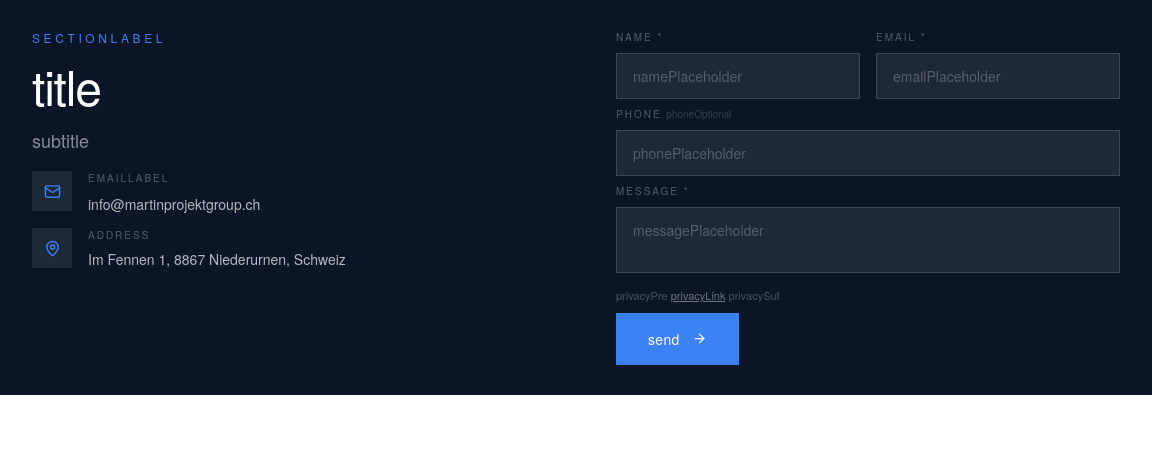
Test case: ContactSection › shows all field errors when submitting empty form
Click the button "send" at (677, 339), box [616, 313, 739, 365]
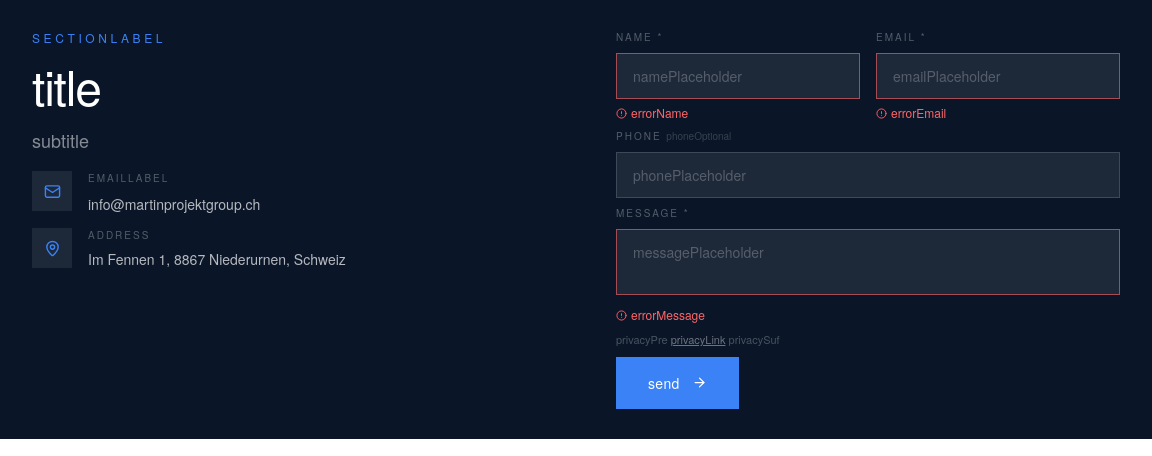
Result: the text "errorName" is shown at [616, 104, 688, 121]
Result: the text "errorEmail" is shown at [876, 104, 946, 121]
Result: the text "errorMessage" is shown at [616, 306, 705, 323]
